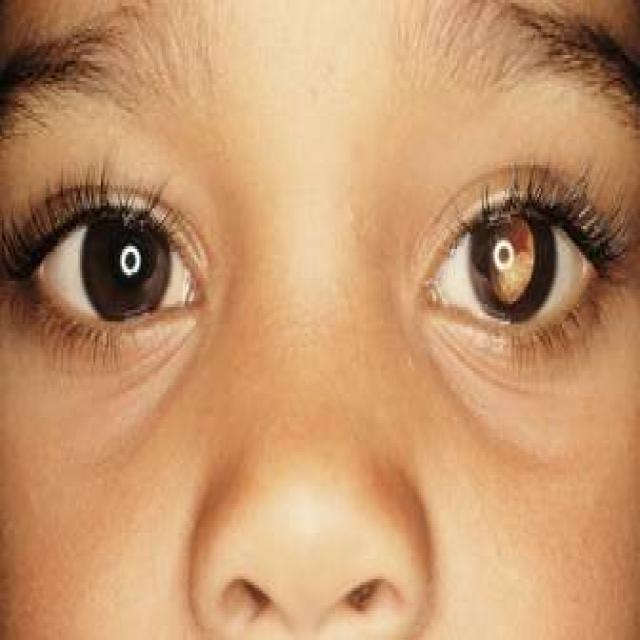reflexo-alterado: (459, 200, 564, 330)
reflexo-normal: (57, 195, 194, 331)
